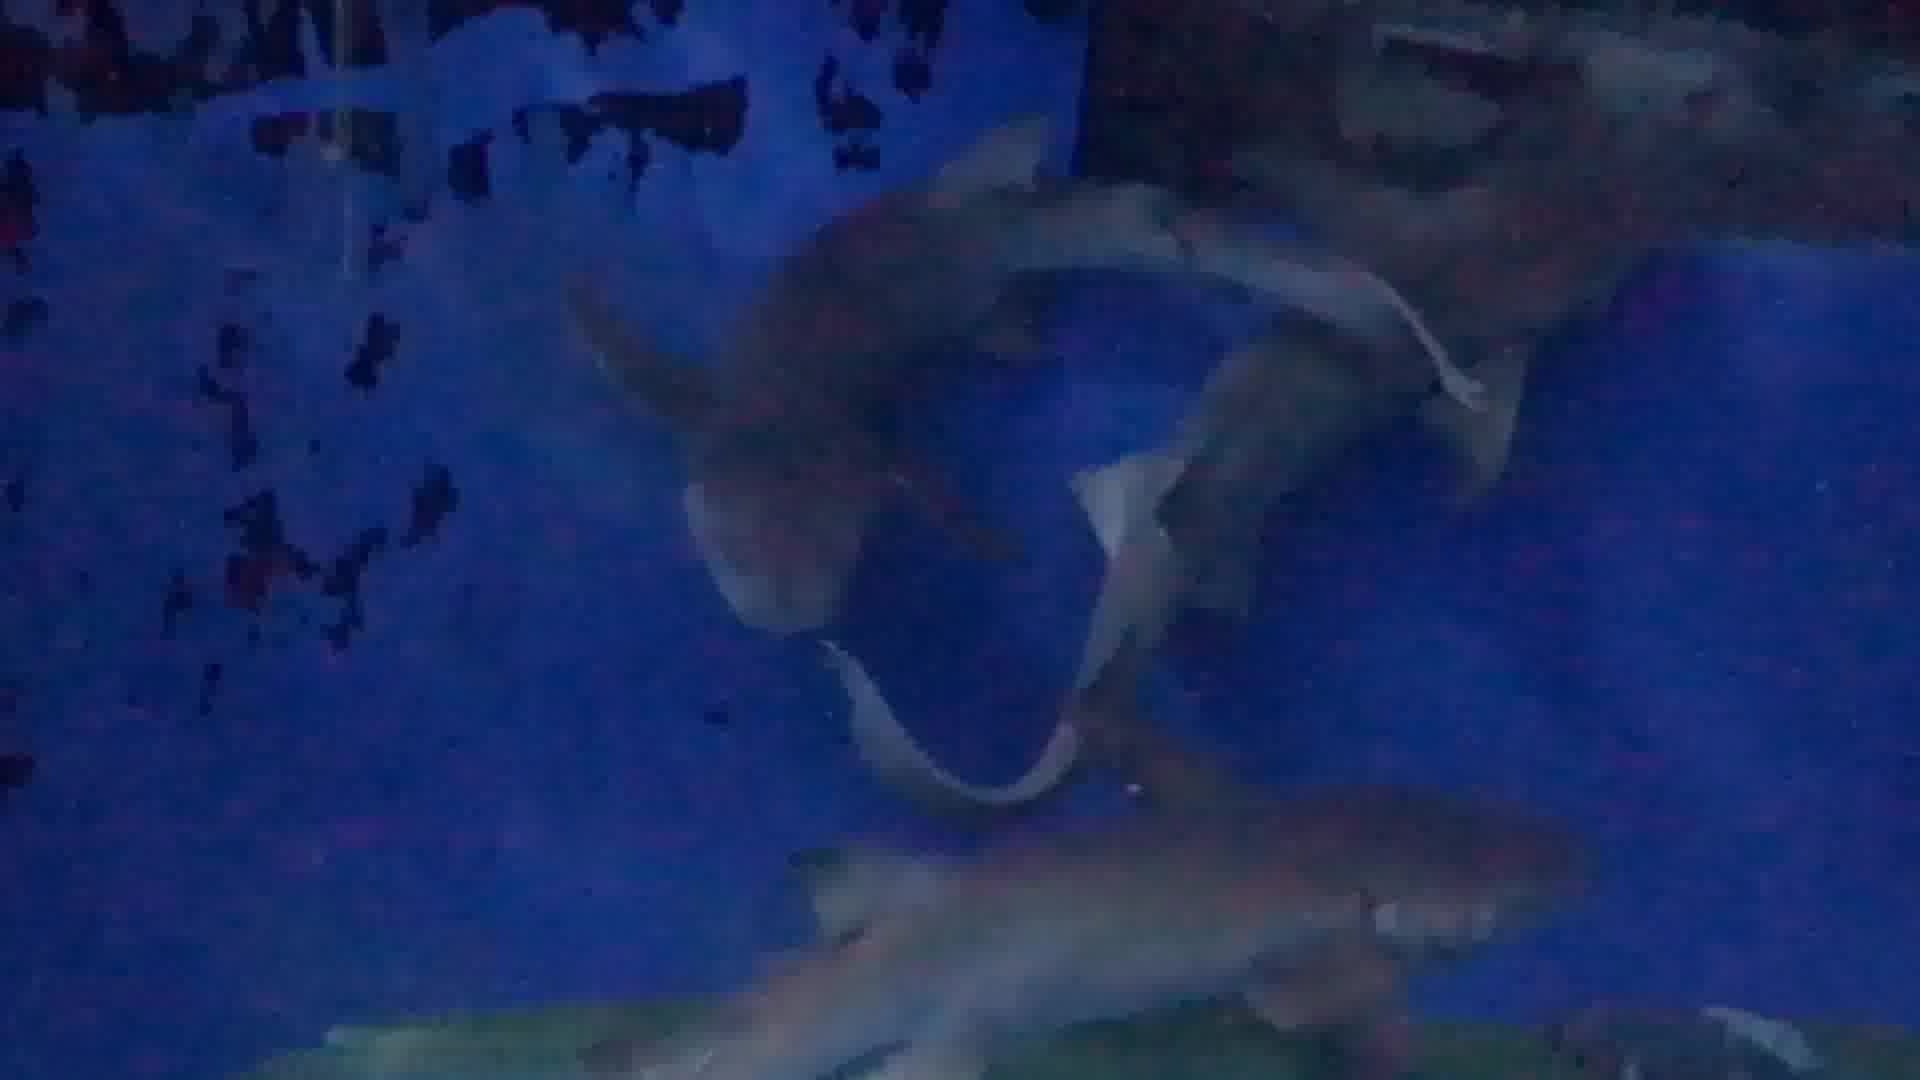Nebrius ferrugineus: (1130, 18, 1756, 597), (632, 796, 1756, 1080), (616, 84, 1059, 658)
